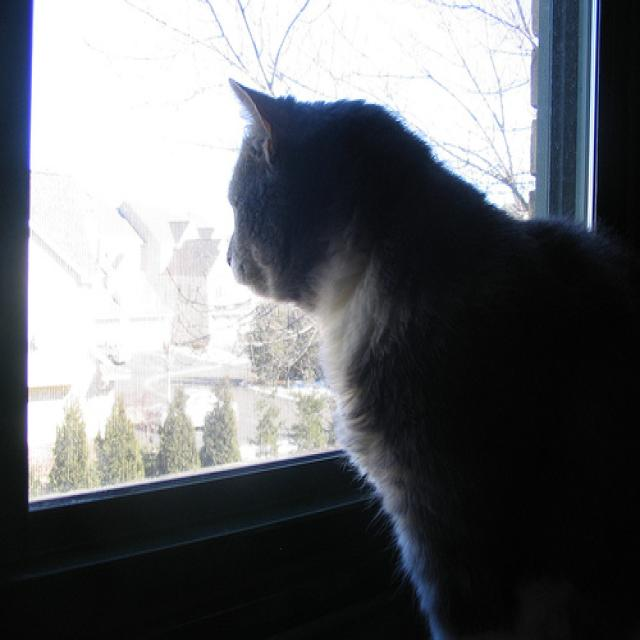cat: (225, 78, 640, 639)
